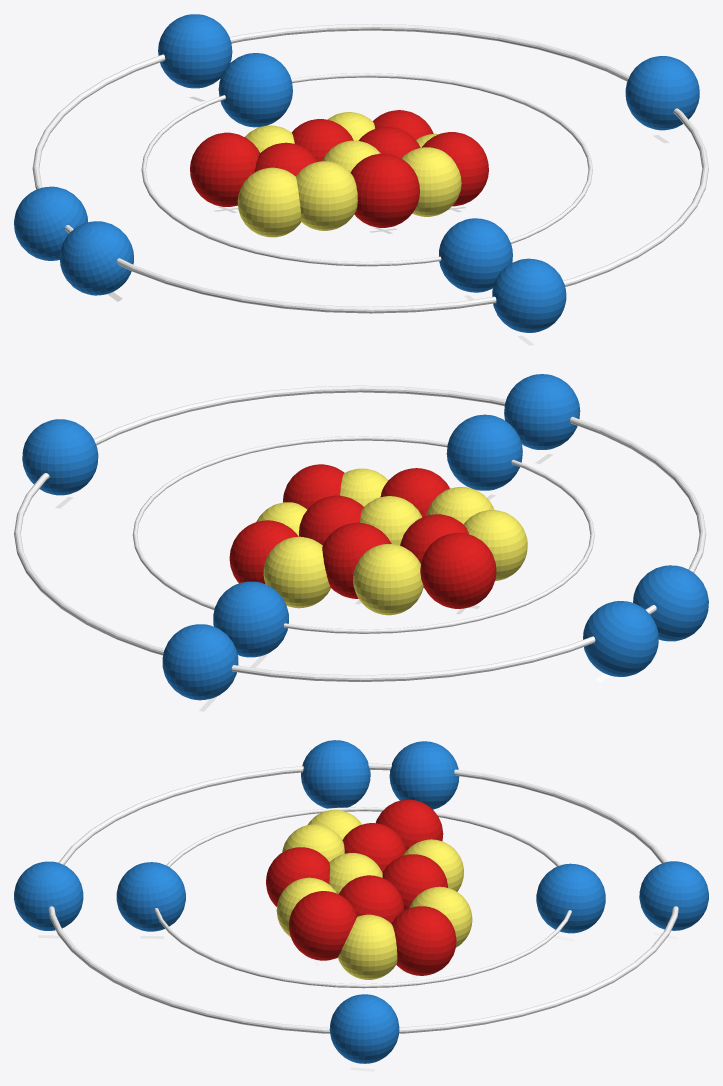
3 renders of one model, top to bottom at view 1: azimuth 30°, elevation 25°; view 2: azimuth 150°, elevation 25°; view 3: azimuth 270°, elevation 25°, orthographic. The views are drawn at different scales.
Visible parts, largest first — view 1: Torus.002, Torus.001, -.005, -.001, -.004, -.002, -.003, -, f.002, f.006, -.006, Sphere.007 (+10 smaller); view 2: Torus.002, Torus.001, f.006, -.004, -, -.006, -.002, -.005, -.001, -.003, Sphere.006, Sphere.005 (+11 smaller); view 3: Torus.002, Torus.001, -.002, -.003, -, -.001, -.004, -.005, -.006, f.004, f.005, Sphere.004 (+11 smaller).
Boxes of the visible parts, <box> form: Torus.002: <box>32,24,708,313</box>; Torus.001: <box>141,73,592,266</box>; -.005: <box>492,258,566,332</box>; -.001: <box>218,53,292,127</box>; -.004: <box>158,14,232,88</box>; -.002: <box>625,56,699,130</box>; -.003: <box>59,221,133,295</box>; -: <box>439,218,512,292</box>; f.002: <box>350,153,419,227</box>; f.006: <box>190,132,259,206</box>; -.006: <box>14,186,87,260</box>; Sphere.007: <box>237,167,301,237</box>; Torus.002: <box>14,385,706,681</box>; Torus.001: <box>132,436,594,633</box>; f.006: <box>420,532,496,608</box>; -.004: <box>162,624,238,700</box>; -: <box>446,414,522,490</box>; -.006: <box>583,601,658,676</box>; -.002: <box>22,419,98,495</box>; -.005: <box>504,374,580,449</box>; -.001: <box>213,581,288,657</box>; -.003: <box>633,565,708,641</box>; Sphere.006: <box>353,544,423,615</box>; Sphere.005: <box>263,536,330,608</box>; Torus.002: <box>48,763,678,1033</box>; Torus.001: <box>154,807,571,988</box>; -.002: <box>329,994,399,1063</box>; -.003: <box>301,740,370,808</box>; -: <box>116,862,185,931</box>; -.001: <box>536,863,605,933</box>; -.004: <box>639,861,708,930</box>; -.005: <box>14,861,83,930</box>; -.006: <box>389,741,459,809</box>; f.004: <box>289,891,357,960</box>; f.005: <box>392,906,456,975</box>; Sphere.004: <box>338,914,397,979</box>.
Bounding box in the file's own units: 4.66 × 0.6841 × 4.64.
